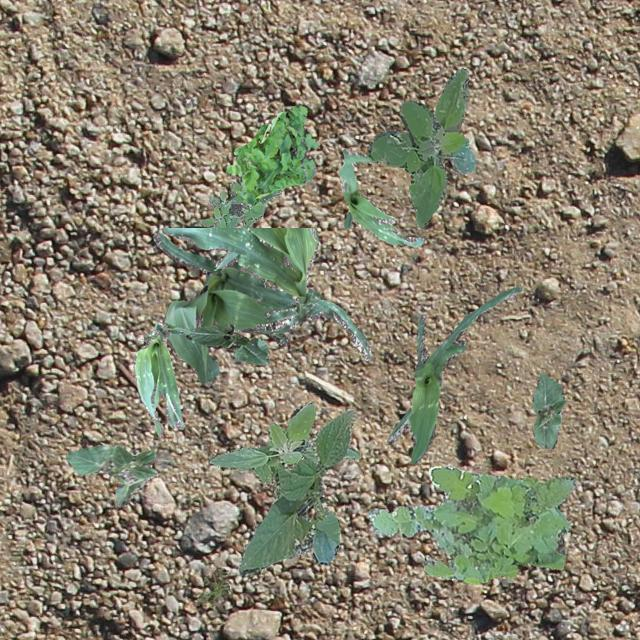crop: (152, 232, 366, 382), (162, 226, 372, 360), (386, 284, 522, 462), (236, 408, 354, 574), (337, 147, 422, 245), (132, 322, 188, 436), (65, 444, 156, 506), (185, 324, 268, 364), (532, 372, 566, 448)
weed: (368, 464, 576, 584), (366, 67, 474, 226), (208, 400, 360, 498), (225, 104, 316, 202), (200, 180, 282, 227), (196, 568, 230, 602)
